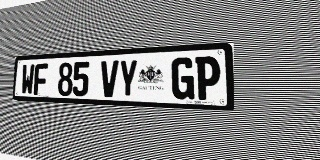5: (73, 62, 89, 96)
8: (58, 62, 73, 96)
F: (34, 63, 48, 95)
G: (171, 57, 194, 100)
P: (195, 56, 220, 100)
V: (100, 60, 119, 97)
W: (21, 64, 35, 95)
Y: (118, 59, 138, 98)
